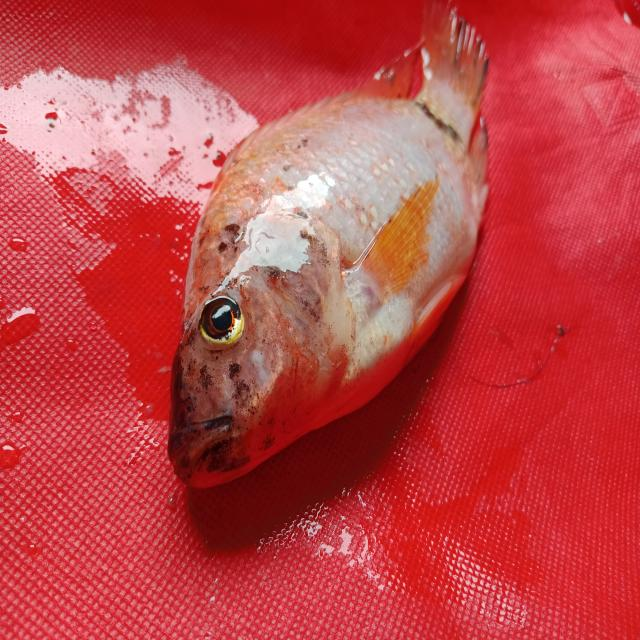ikan: (158, 26, 516, 496)
